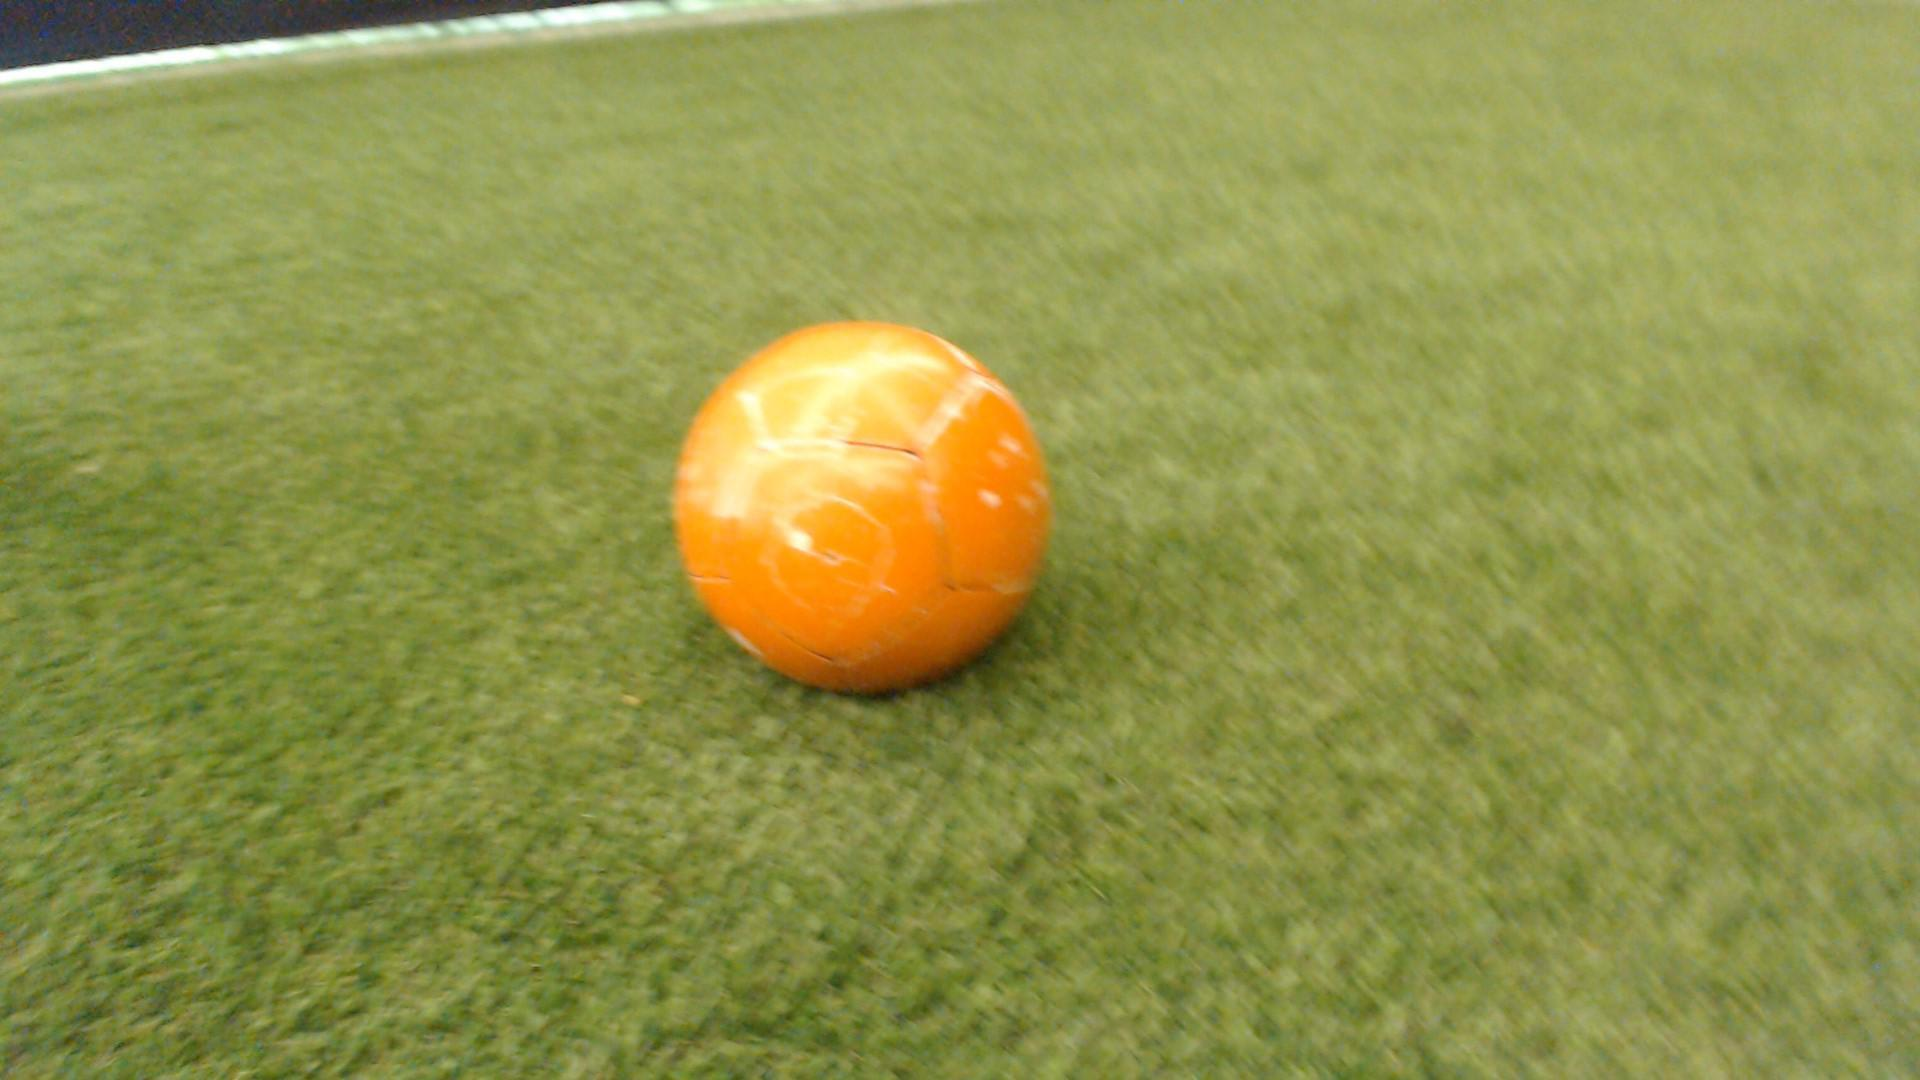bola: (658, 262, 1092, 740)
